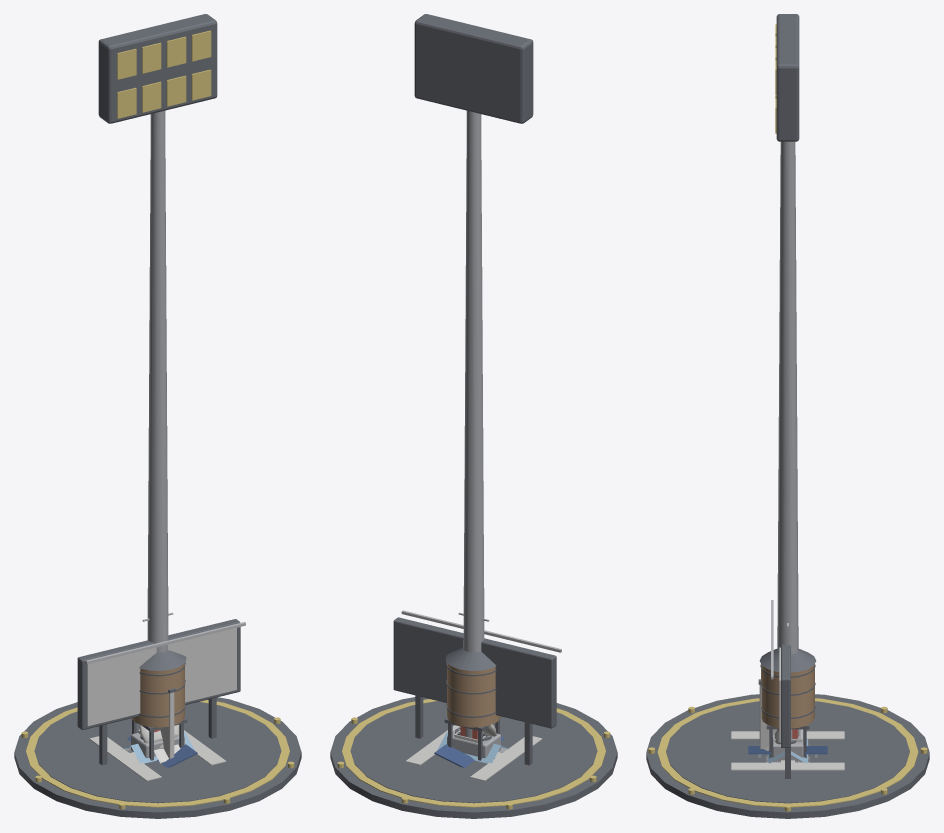
File: kit.glb
The picture shows the model from 3 angles, left to right: view 1: azimuth 30°, elevation 25°; view 2: azimuth 150°, elevation 25°; view 3: azimuth 270°, elevation 25°; orthographic projection.
Visible parts, largest first — view 1: Helipad, Floodlight, Billboard, WaterTank, NeonSign; view 2: Helipad, Floodlight, Billboard, WaterTank, AcUnit; view 3: Helipad, Floodlight, WaterTank, Billboard.
Part boxes in pixels (box(x1,y1,x2,y2)): Helipad: box(14, 697, 301, 818); Floodlight: box(98, 14, 217, 730); Billboard: box(77, 619, 245, 765); WaterTank: box(132, 650, 187, 760); NeonSign: box(160, 688, 175, 758); Helipad: box(330, 697, 617, 818); Floodlight: box(414, 14, 533, 738); Billboard: box(393, 610, 561, 765); WaterTank: box(444, 647, 501, 760); AcUnit: box(447, 727, 500, 758); Helipad: box(646, 694, 929, 818); Floodlight: box(775, 14, 799, 738); WaterTank: box(759, 649, 816, 758); Billboard: box(771, 600, 790, 778).
Bounding box in the file's own units: 10 × 28.04 × 10.
